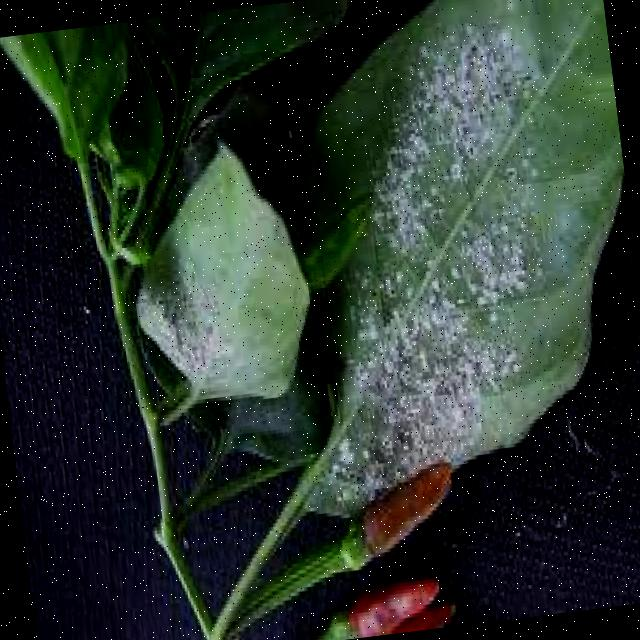whitefly: (234, 0, 635, 543), (95, 118, 328, 430)
